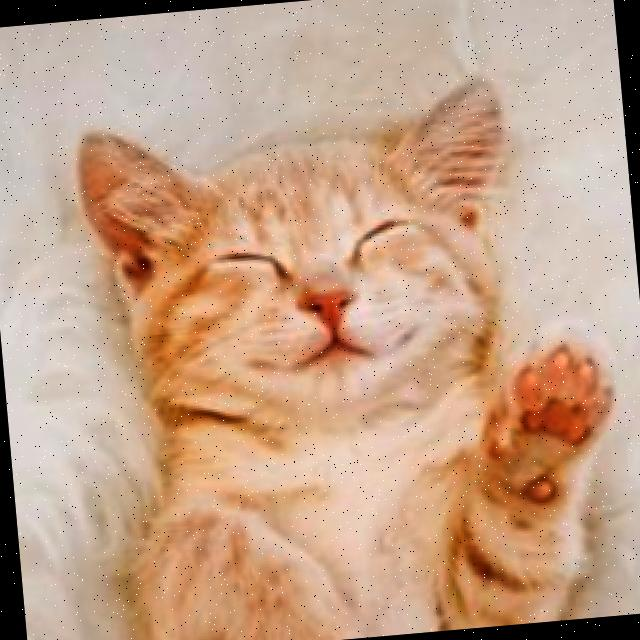Happy: (166, 170, 473, 428)
